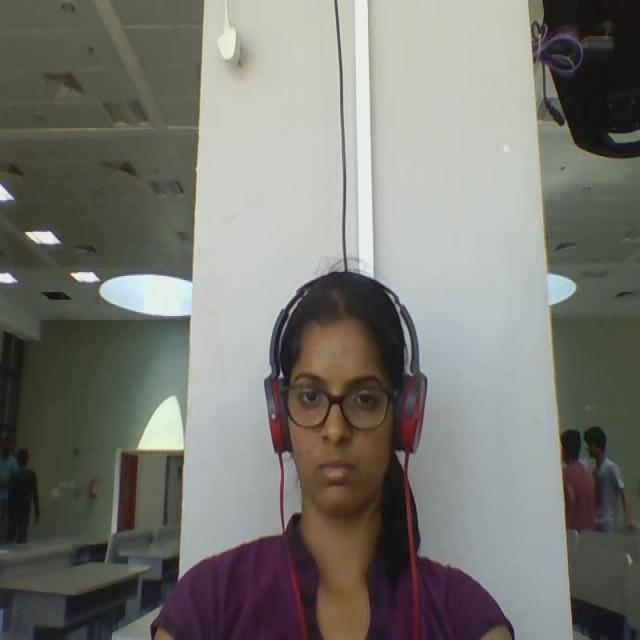Engaged: (257, 259, 442, 556)
